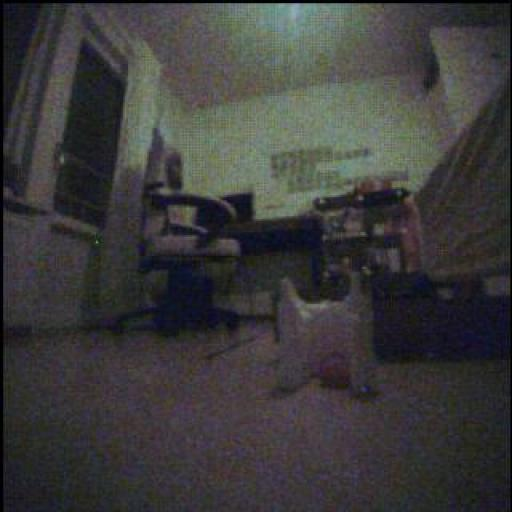basket: (319, 350, 351, 390)
